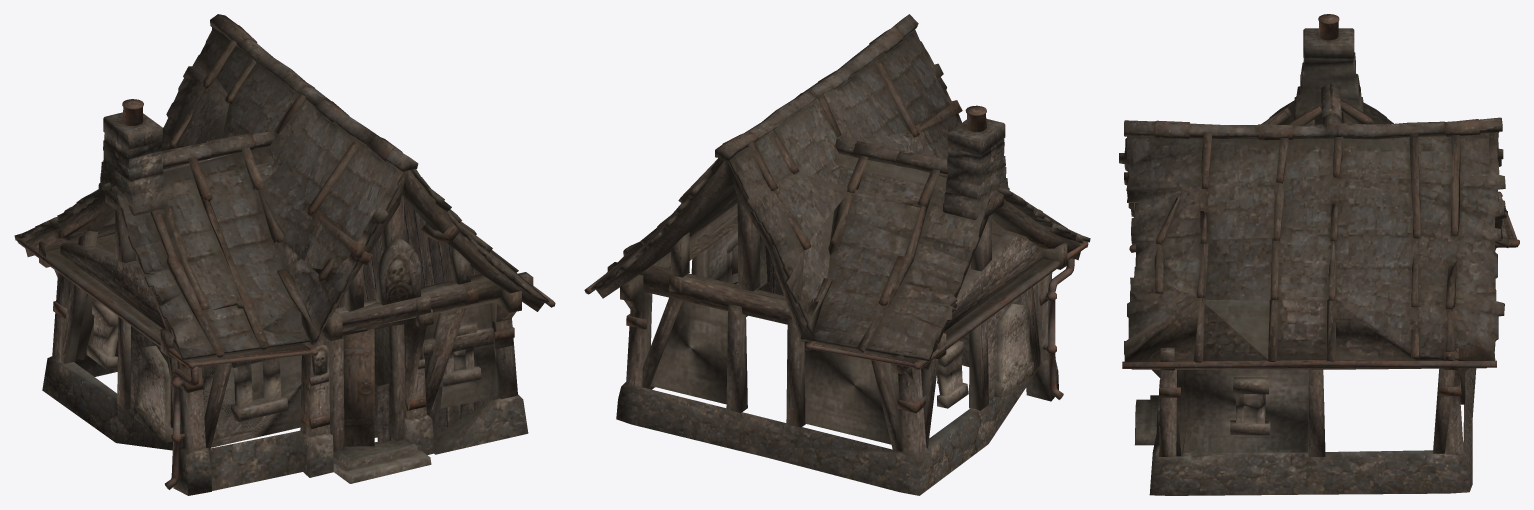
The model's file is home.glb.
3 renders of one model, left to right at view 1: azimuth 30°, elevation 25°; view 2: azimuth 150°, elevation 25°; view 3: azimuth 270°, elevation 25°, orthographic. The views are drawn at different scales.
Visible parts, largest first — view 1: tripo_node_f2df5c5d-b6a7-4d1a-895e-3c0232995d81, Front gable infill, Front lower wall infill; view 2: tripo_node_f2df5c5d-b6a7-4d1a-895e-3c0232995d81; view 3: tripo_node_f2df5c5d-b6a7-4d1a-895e-3c0232995d81.
Boxes of the visible parts, x1,y1,x2,y2 form: tripo_node_f2df5c5d-b6a7-4d1a-895e-3c0232995d81: [14, 14, 555, 495]; Front gable infill: [336, 200, 480, 308]; Front lower wall infill: [377, 383, 499, 441]; tripo_node_f2df5c5d-b6a7-4d1a-895e-3c0232995d81: [584, 14, 1090, 495]; tripo_node_f2df5c5d-b6a7-4d1a-895e-3c0232995d81: [1119, 14, 1519, 495].
Bounding box in the file's own units: 6 × 5.48 × 6.
Materials: 2 (2 with a texture image).
